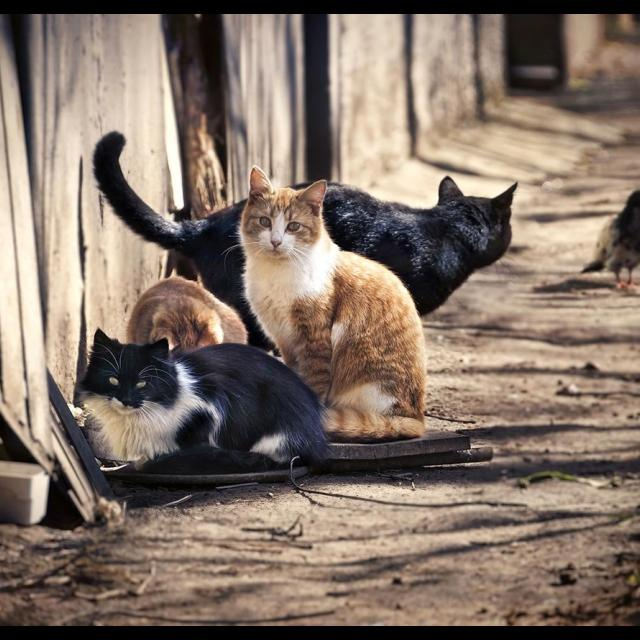animals: (92, 131, 518, 315), (236, 169, 428, 438), (80, 329, 330, 479), (120, 268, 249, 347)
